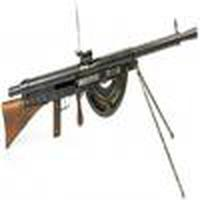gun: (6, 25, 197, 147)
